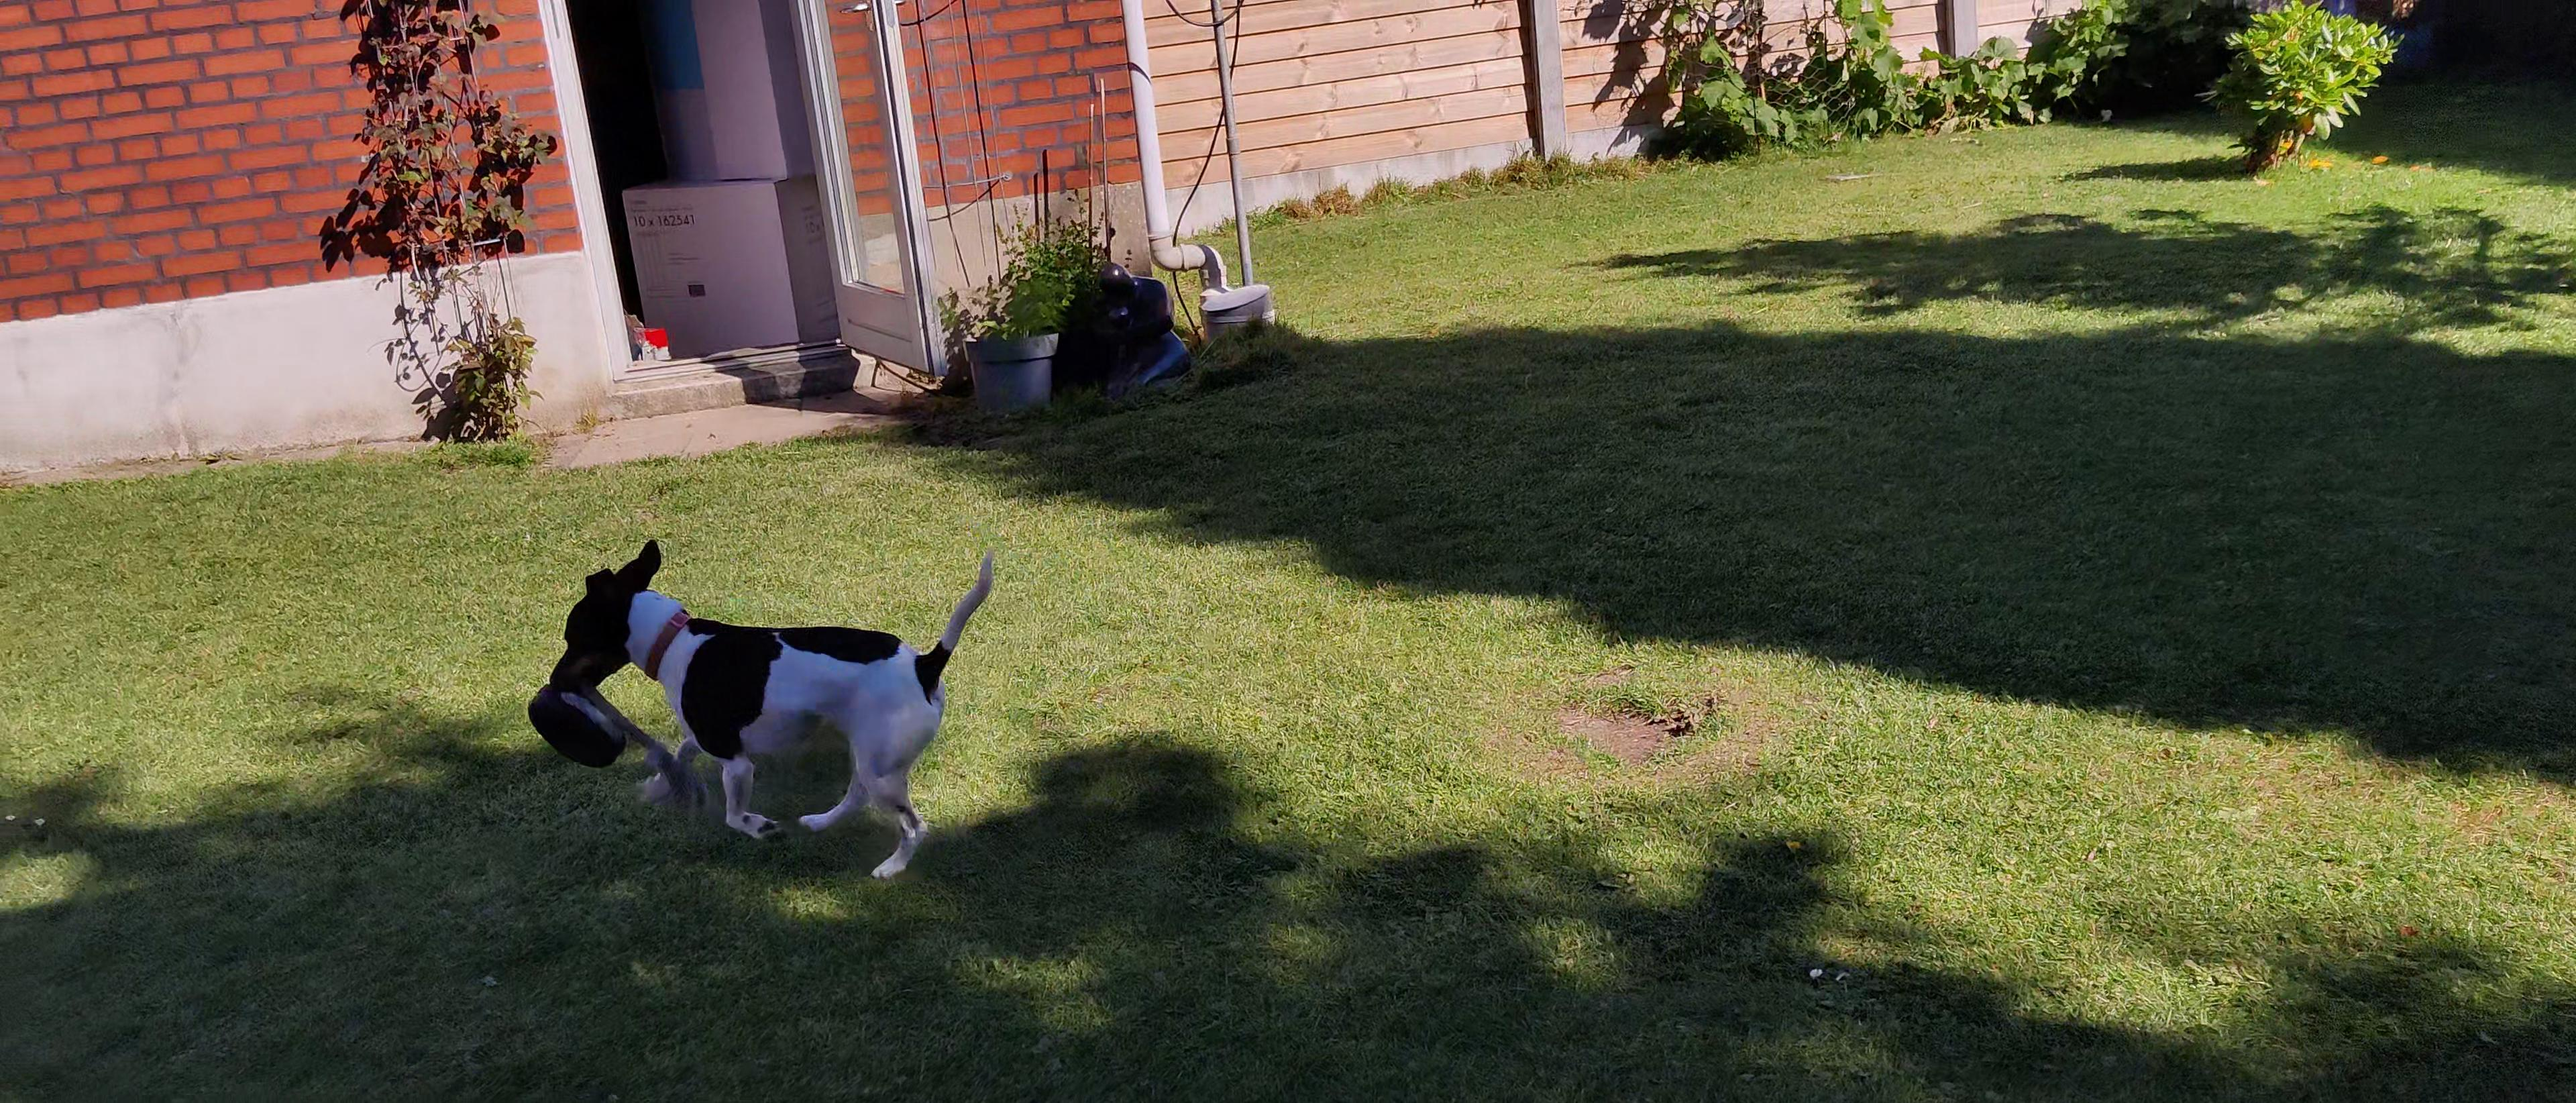Dog: (532, 511, 1019, 902)
